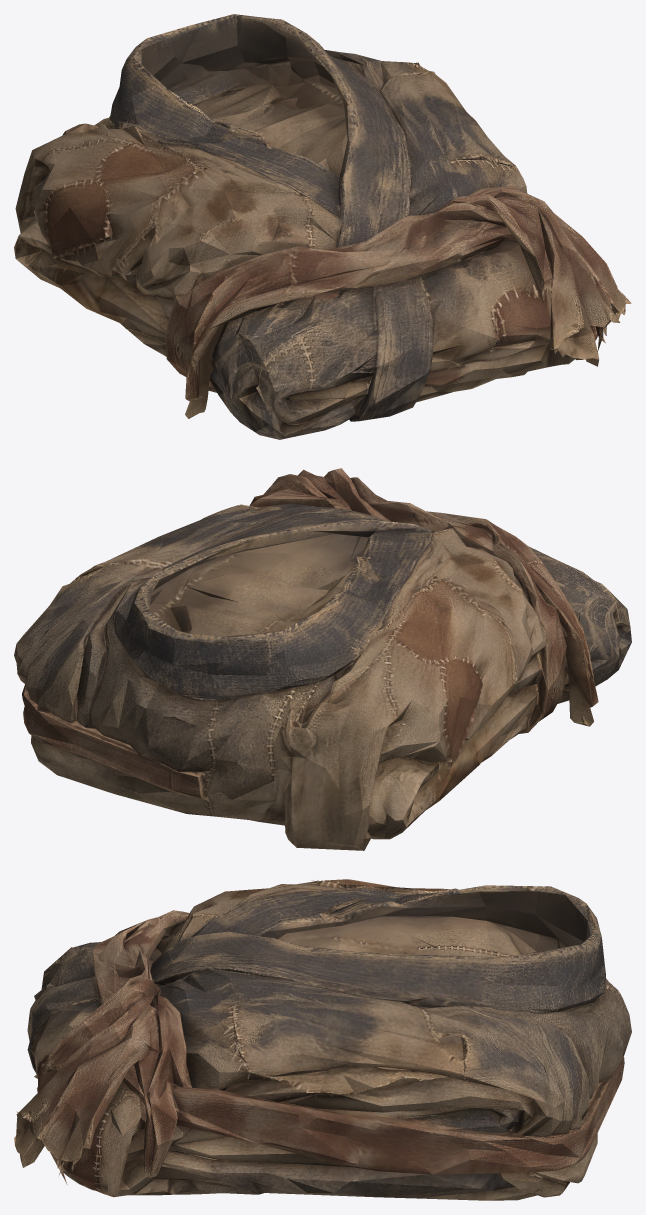
The model's file is dirty-robe.glb.
The picture shows the model from 3 angles, top to bottom: view 1: azimuth 30°, elevation 25°; view 2: azimuth 150°, elevation 25°; view 3: azimuth 270°, elevation 25°; orthographic projection. The views are drawn at different scales.
Visible parts, largest first — view 1: output_unwrapped; view 2: output_unwrapped; view 3: output_unwrapped.
Boxes of the visible parts, box(x1,y1,x2,y2) form: output_unwrapped: box(14, 14, 631, 439); output_unwrapped: box(14, 468, 631, 850); output_unwrapped: box(14, 879, 631, 1200).
Size of the model in its own units: 0.3096 by 0.1489 by 0.4.
Materials: 1 (1 with a texture image).
